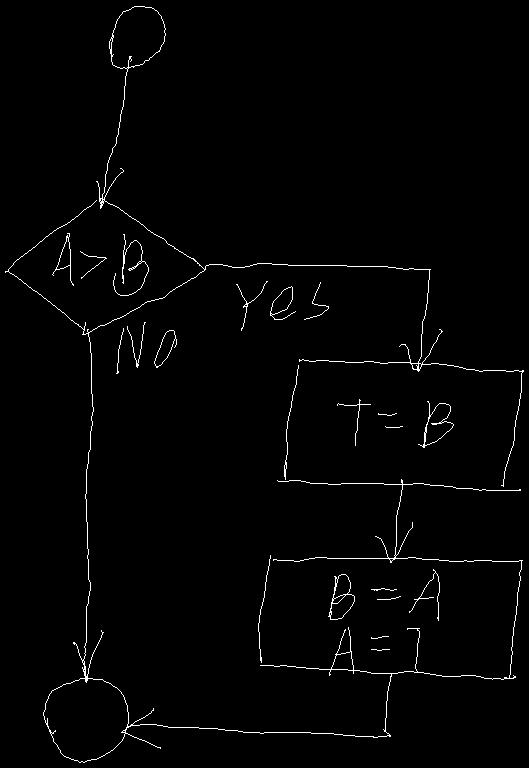arrow: (205, 263, 442, 371), (121, 673, 391, 748), (73, 329, 103, 682), (96, 56, 131, 208), (375, 479, 412, 562)
connection: (43, 678, 128, 762), (109, 6, 165, 68)
decision: (5, 198, 205, 334)
process: (258, 555, 522, 679), (277, 359, 523, 490)
text: (328, 569, 439, 675), (52, 233, 148, 295), (337, 399, 453, 447), (236, 281, 328, 330), (116, 322, 176, 373)
